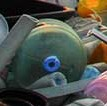garbage: (2, 15, 105, 103)
